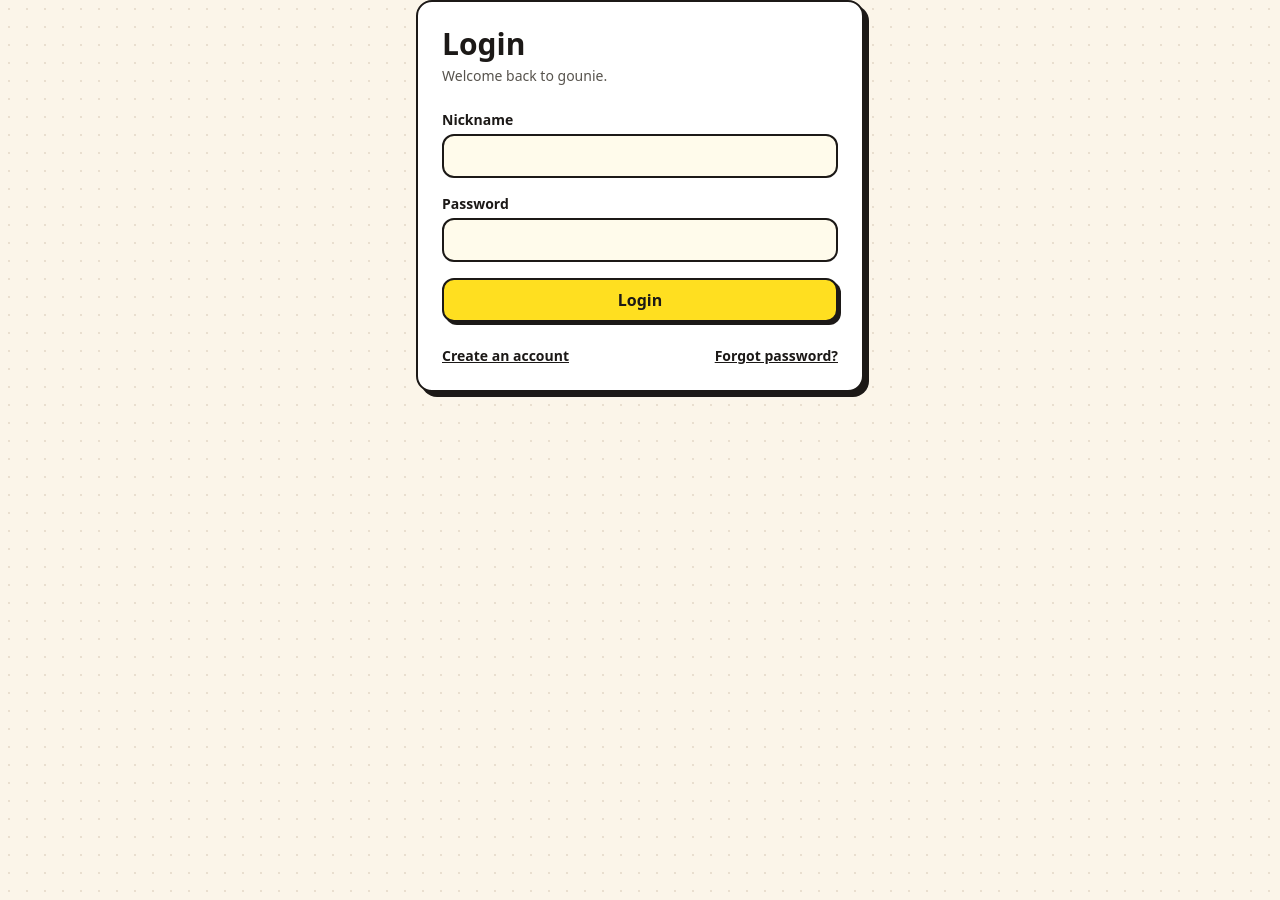
it: LoginPage › offers to resend the confirmation email when the email is not confirmed
Step 1. Type "alice" into the field labelled "Nickname" → (640, 156), box [442,134,838,178]
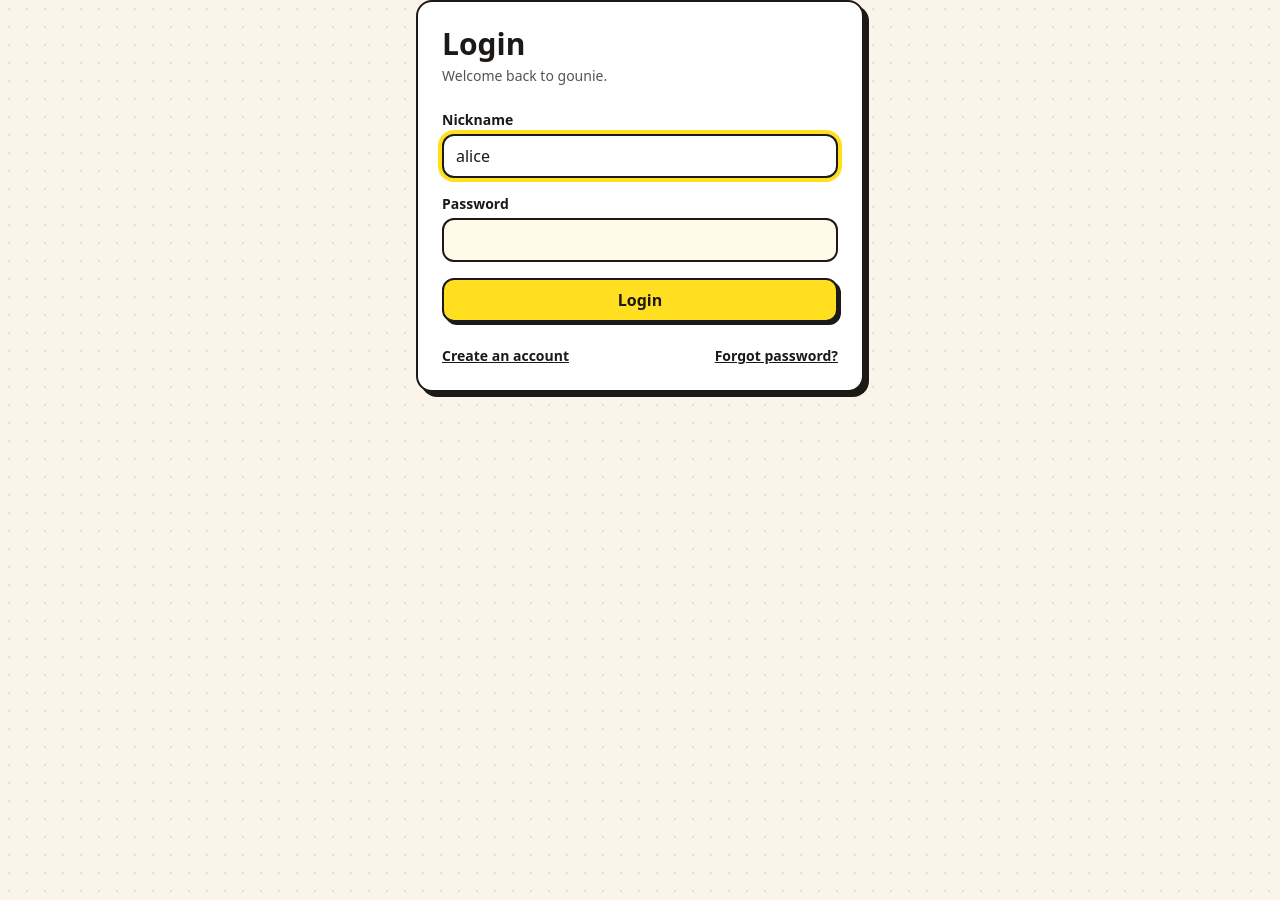
Step 2. Type "password1" into the password field labelled "Password" → (640, 240), box [442,218,838,262]
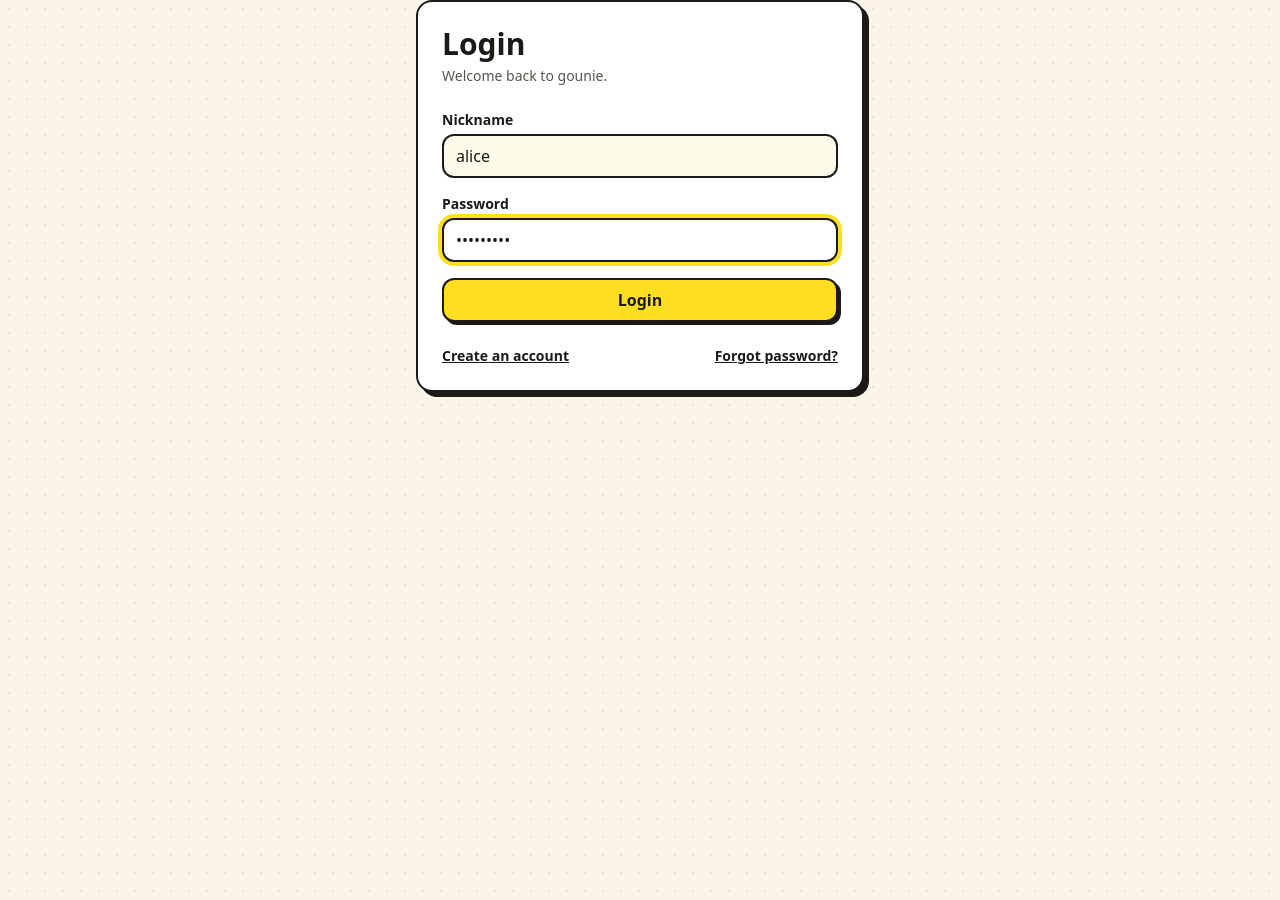
Step 3. Click the button "Login" → (640, 300), box [442,278,838,322]
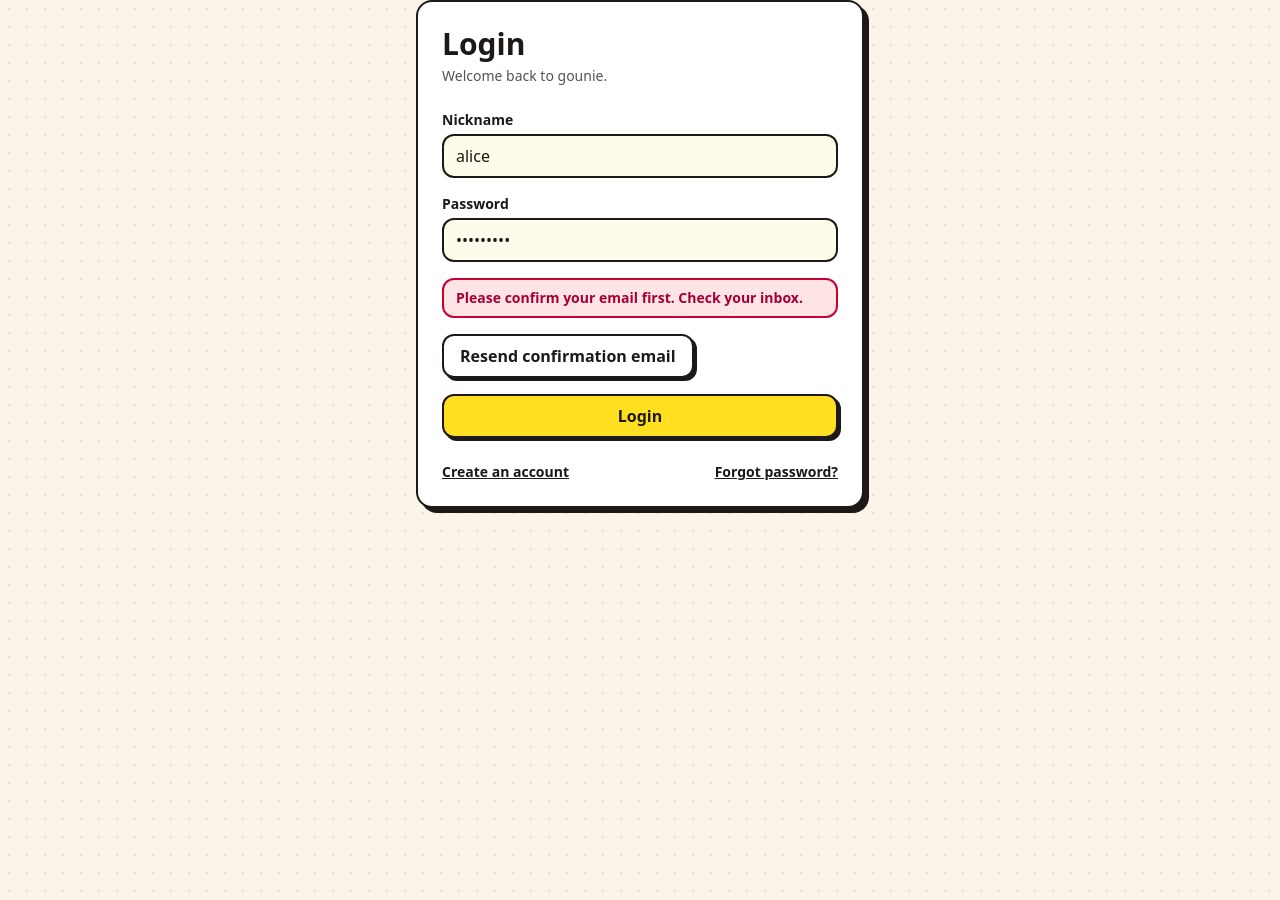
expect the message shows "Please confirm your email first.": met, box [456,288,803,307]
Step 4. Click the button "Resend confirmation email" → (568, 356), box [442,334,694,378]
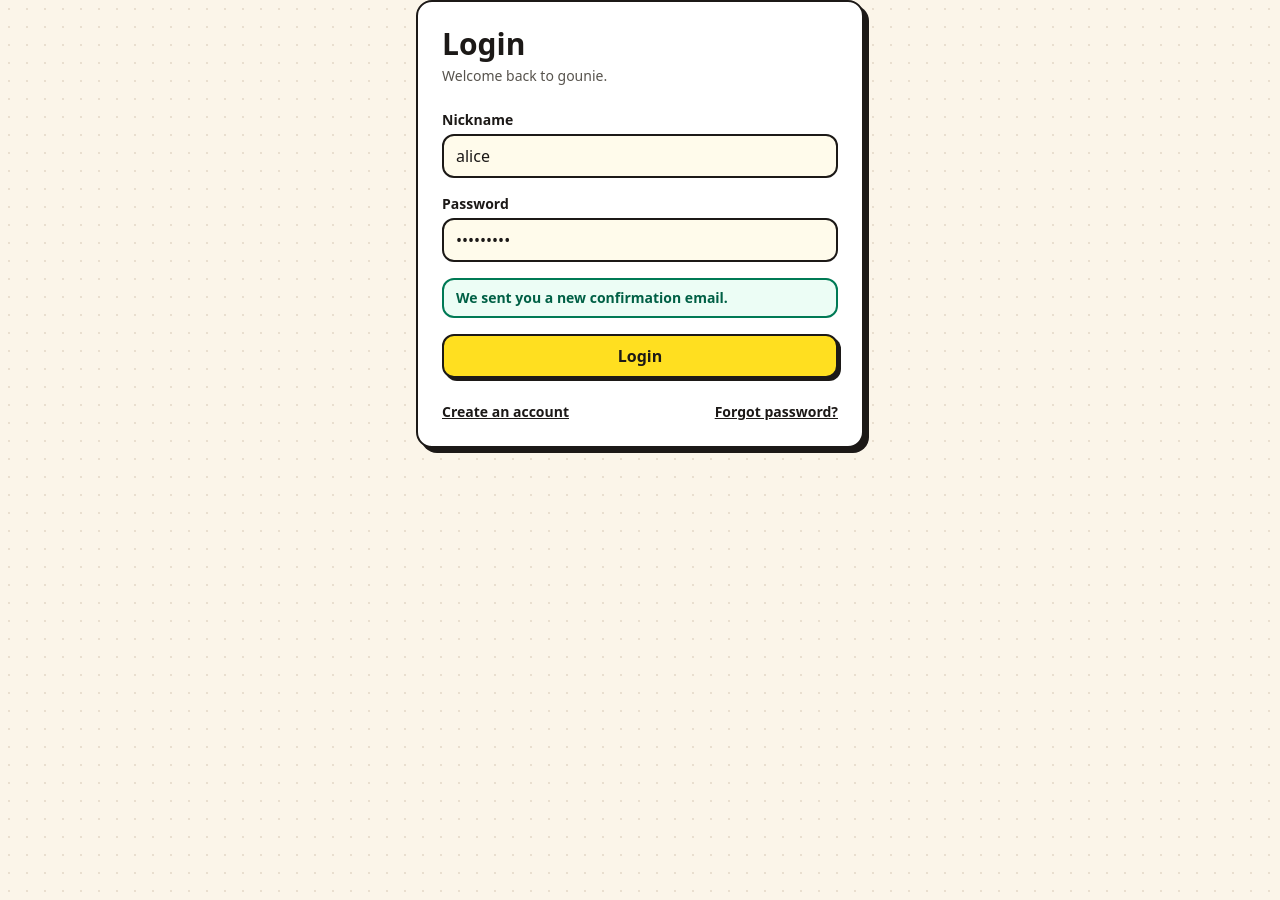
expect the message reads "We sent you a new confirmation email.": met, box [456,288,728,307]
